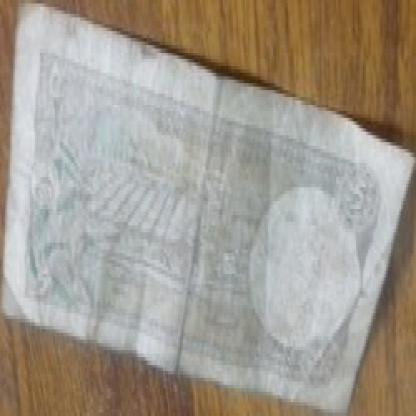Five Taka: (43, 56, 68, 108), (344, 177, 369, 222)
